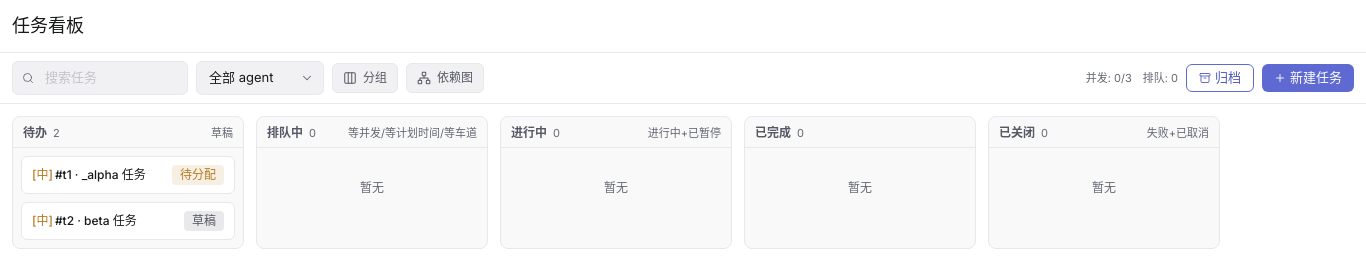
Test: TaskBoardView 主区（看板重构 Task 11） › 文本过滤生效：不匹配的任务不出现在画板
Type "beta" into the field labelled "搜索任务".
click(100, 78); type("beta")  # box [12,61,188,94]
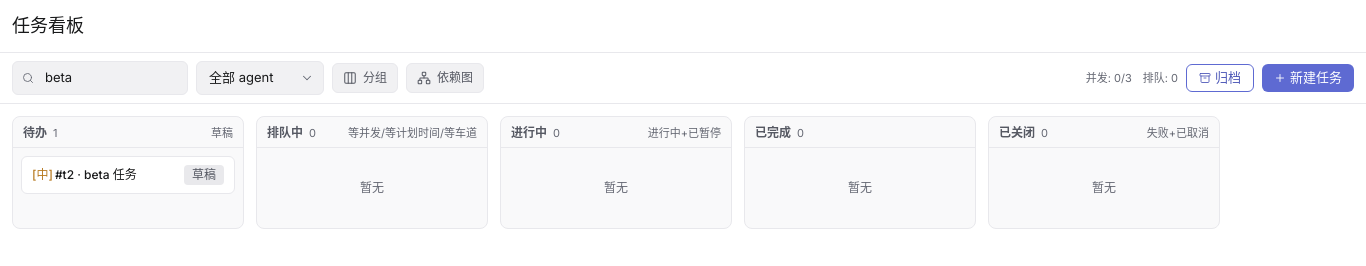
Check: the text "[中]#t2 · beta 任务" is shown, box [32,166,137,182]
Check: the button "_alpha 任务" is gone
